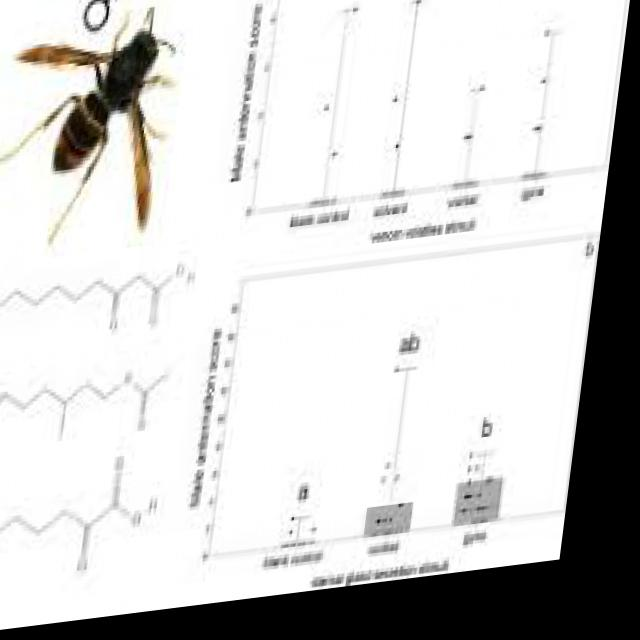Vespa Velutina: (0, 1, 197, 259)
